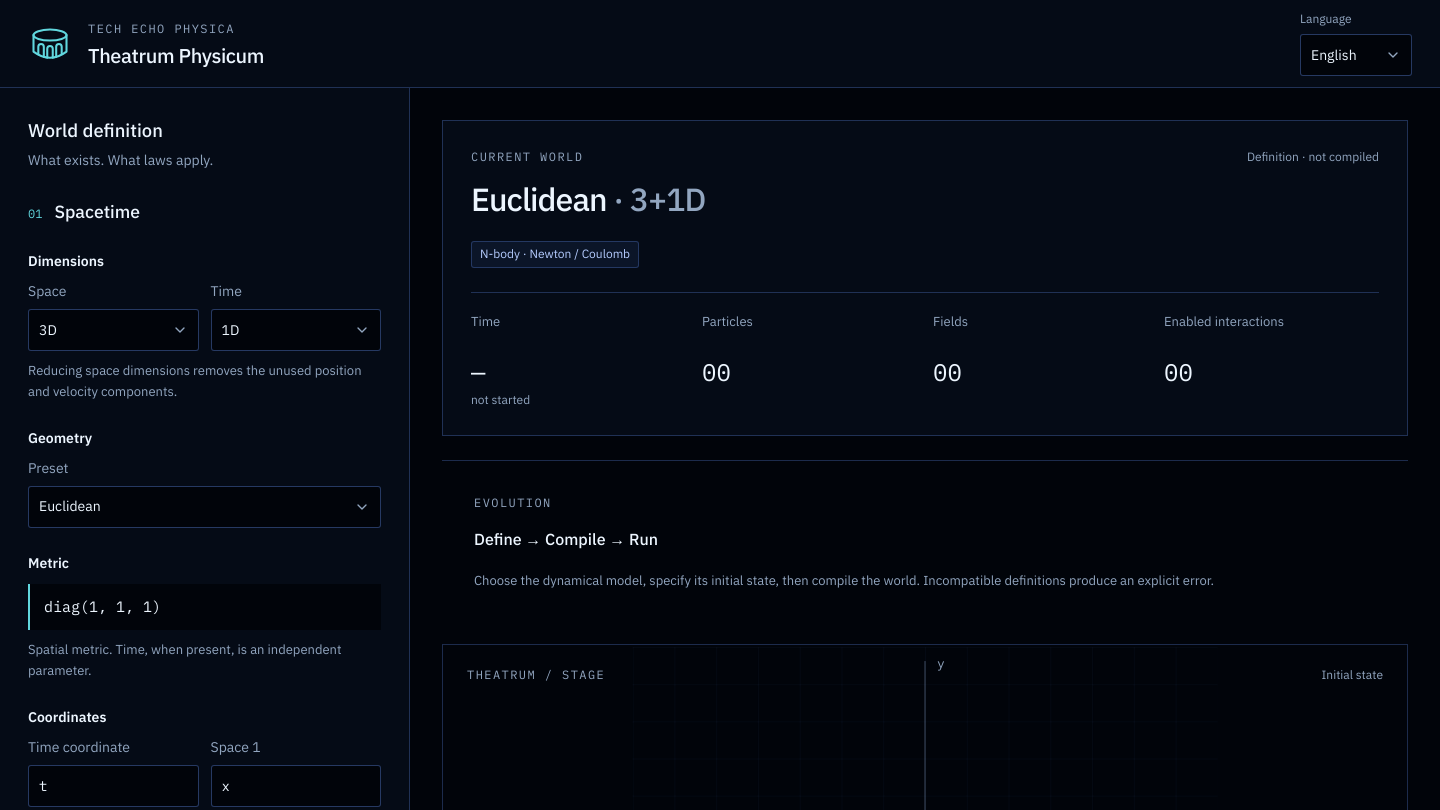
Scenario: Genesis and world builder › changes geometry with a real choice control while keeping the dynamics label
This screenshot has width=1440, height=810.
Click the dropdown named "Preset".
click(70, 506)  # box [28,486,381,528]
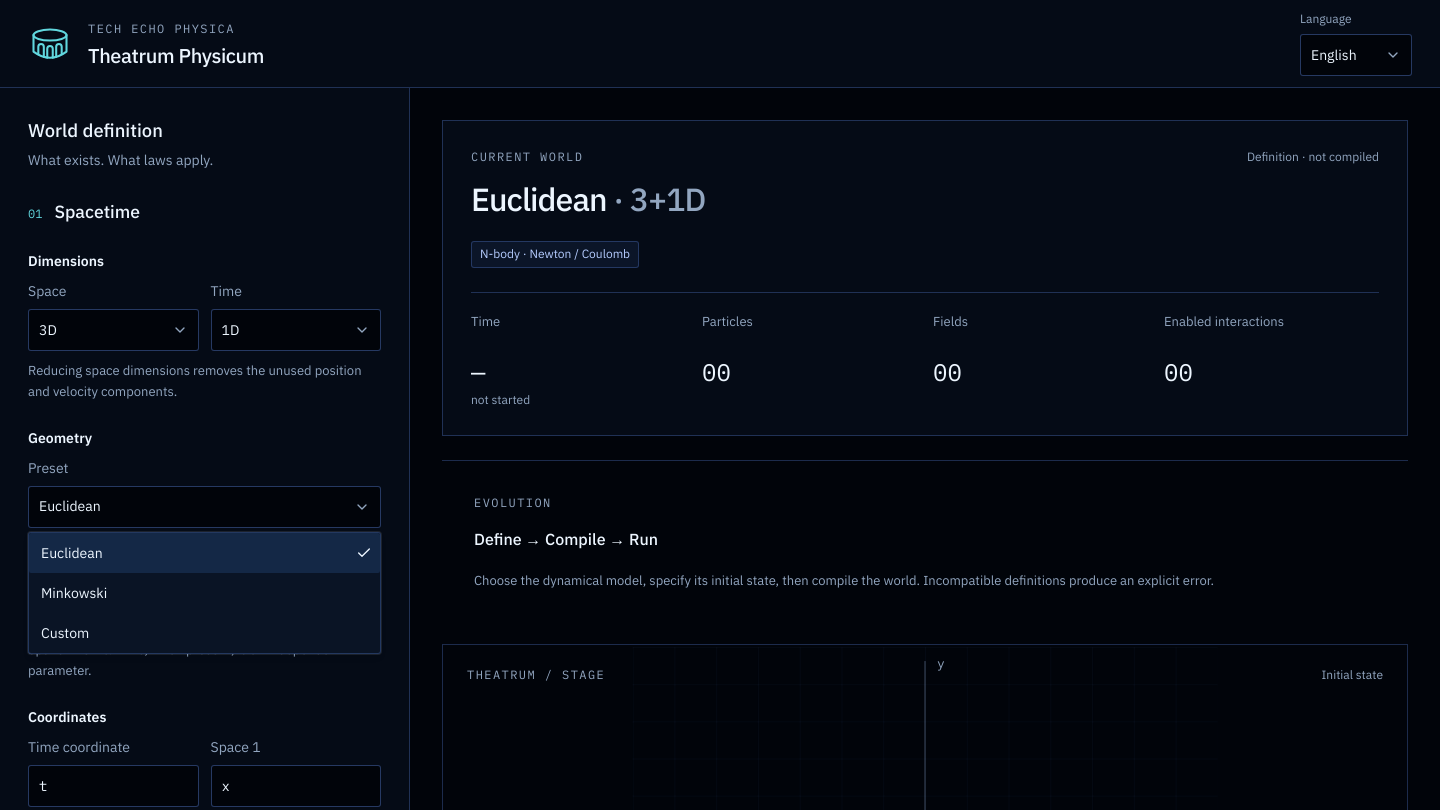
Click the option "Minkowski".
click(74, 593)  # box [41,584,107,602]
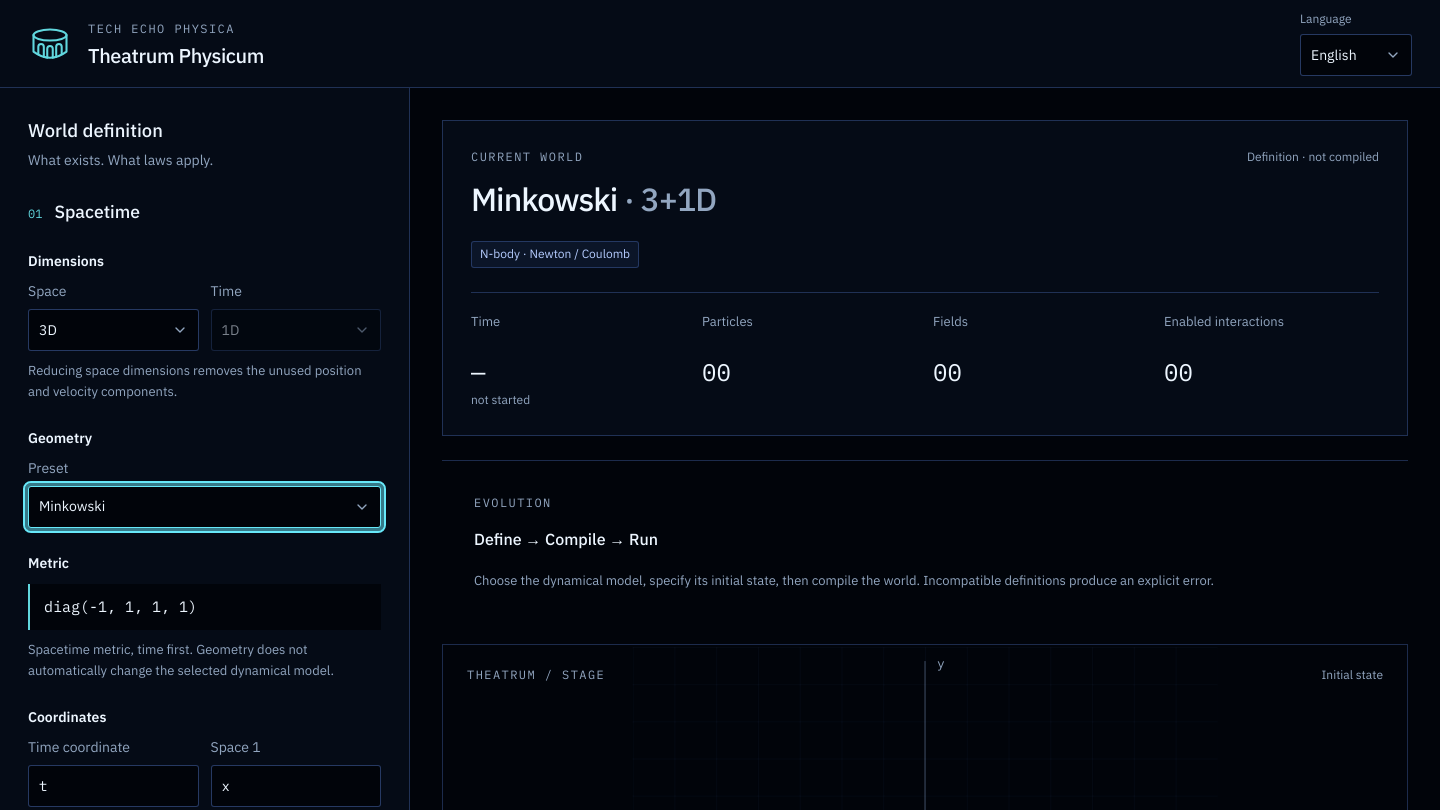
Check: the heading "Minkowski · 3+1D" is shown, box [471,178,716,220]
Check: the text "diag(-1, 1, 1, 1)" is shown, box [28,584,381,630]
Check: the dropdown named "Time" is disabled, box [210,309,381,351]
